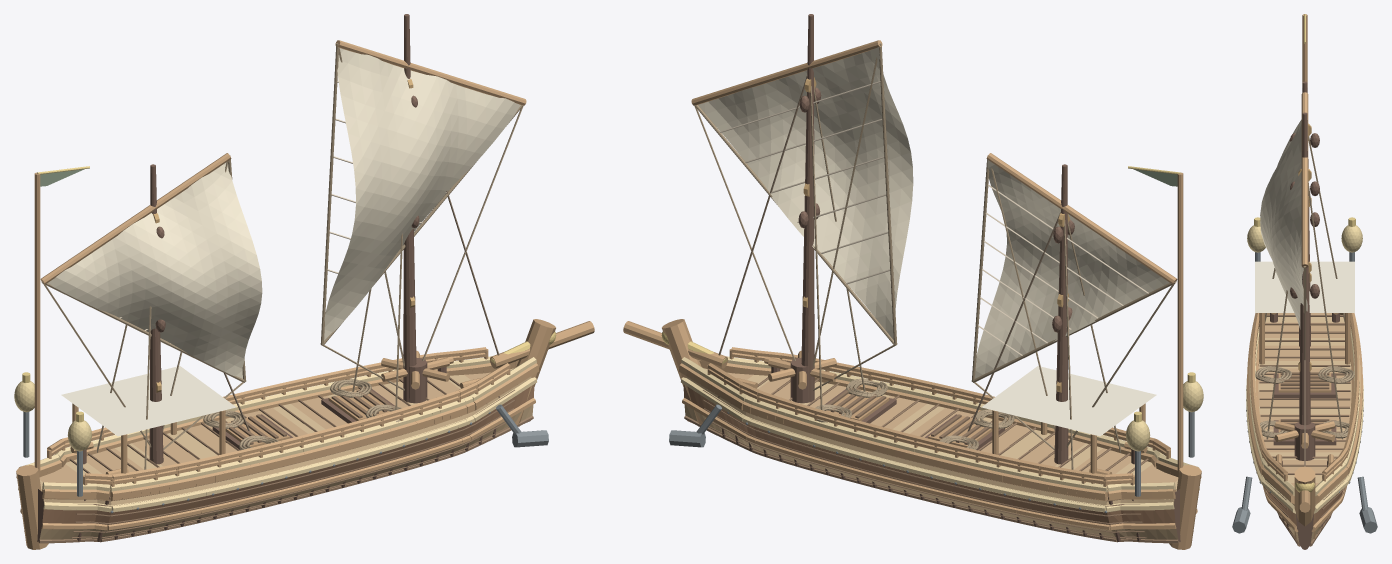
The model's file is sambuk-v5.glb.
The picture shows the model from 3 angles, left to right: view 1: azimuth 30°, elevation 25°; view 2: azimuth 150°, elevation 25°; view 3: azimuth 270°, elevation 25°; orthographic projection. The views are drawn at different scales.
Visible parts, largest first — view 1: sambuk_sails_sail, sambuk_hull_wood, sambuk_hull_pale, sambuk_railings_wood, sambuk_hull_seam, sambuk_ornament_sailbright, sambuk_hull_hull2, sambuk_hull_pine, sambuk_hull_deck, sambuk_rigging_rope, sambuk_masts_darkwood, sambuk_rigging_wood (+11 smaller); view 2: sambuk_sails_sail, sambuk_hull_wood, sambuk_hull_pale, sambuk_railings_wood, sambuk_hull_seam, sambuk_masts_darkwood, sambuk_rigging_rope, sambuk_ornament_sailbright, sambuk_hull_hull2, sambuk_hull_pine, sambuk_hull_deck, sambuk_rigging_wood (+13 smaller); view 3: sambuk_sails_sail, sambuk_hull_deck, sambuk_hull_wood, sambuk_ornament_sailbright, sambuk_hull_seam, sambuk_masts_darkwood, sambuk_hull_decklight, sambuk_railings_wood, sambuk_hull_pale, sambuk_fittings_darkwood, sambuk_fittings_wood, sambuk_fittings_rope (+14 smaller).
Part boxes in pixels (<box>): sambuk_sails_sail: <box>48,48,520,378</box>; sambuk_hull_wood: <box>16,319,594,549</box>; sambuk_hull_pale: <box>18,356,536,512</box>; sambuk_railings_wood: <box>47,347,510,495</box>; sambuk_hull_seam: <box>24,377,533,543</box>; sambuk_ornament_sailbright: <box>61,366,236,436</box>; sambuk_hull_hull2: <box>38,384,534,541</box>; sambuk_hull_pine: <box>39,376,533,539</box>; sambuk_hull_deck: <box>39,372,490,497</box>; sambuk_rigging_rope: <box>41,43,523,450</box>; sambuk_masts_darkwood: <box>149,14,419,464</box>; sambuk_rigging_wood: <box>40,40,526,284</box>; sambuk_sails_sail: <box>698,47,1169,378</box>; sambuk_hull_wood: <box>623,319,1201,549</box>; sambuk_hull_pale: <box>681,356,1199,512</box>; sambuk_railings_wood: <box>707,347,1170,495</box>; sambuk_hull_seam: <box>684,377,1193,543</box>; sambuk_masts_darkwood: <box>798,14,1074,464</box>; sambuk_rigging_rope: <box>694,43,1176,450</box>; sambuk_ornament_sailbright: <box>981,366,1156,436</box>; sambuk_hull_hull2: <box>683,384,1179,541</box>; sambuk_hull_pine: <box>684,376,1178,539</box>; sambuk_hull_deck: <box>727,372,1178,497</box>; sambuk_rigging_wood: <box>691,40,1177,284</box>; sambuk_sails_sail: <box>1260,119,1307,329</box>; sambuk_hull_deck: <box>1258,313,1351,486</box>; sambuk_hull_wood: <box>1247,313,1362,538</box>; sambuk_ornament_sailbright: <box>1255,261,1354,312</box>; sambuk_hull_seam: <box>1259,315,1350,546</box>; sambuk_masts_darkwood: <box>1290,81,1319,424</box>; sambuk_hull_decklight: <box>1258,317,1351,482</box>; sambuk_railings_wood: <box>1250,313,1359,481</box>; sambuk_hull_pale: <box>1246,327,1363,513</box>; sambuk_fittings_darkwood: <box>1270,313,1339,466</box>; sambuk_fittings_wood: <box>1271,313,1338,465</box>; sambuk_fittings_rope: <box>1255,366,1354,438</box>.
Size of the model in its own units: 38.85 by 28.67 by 9.68.
